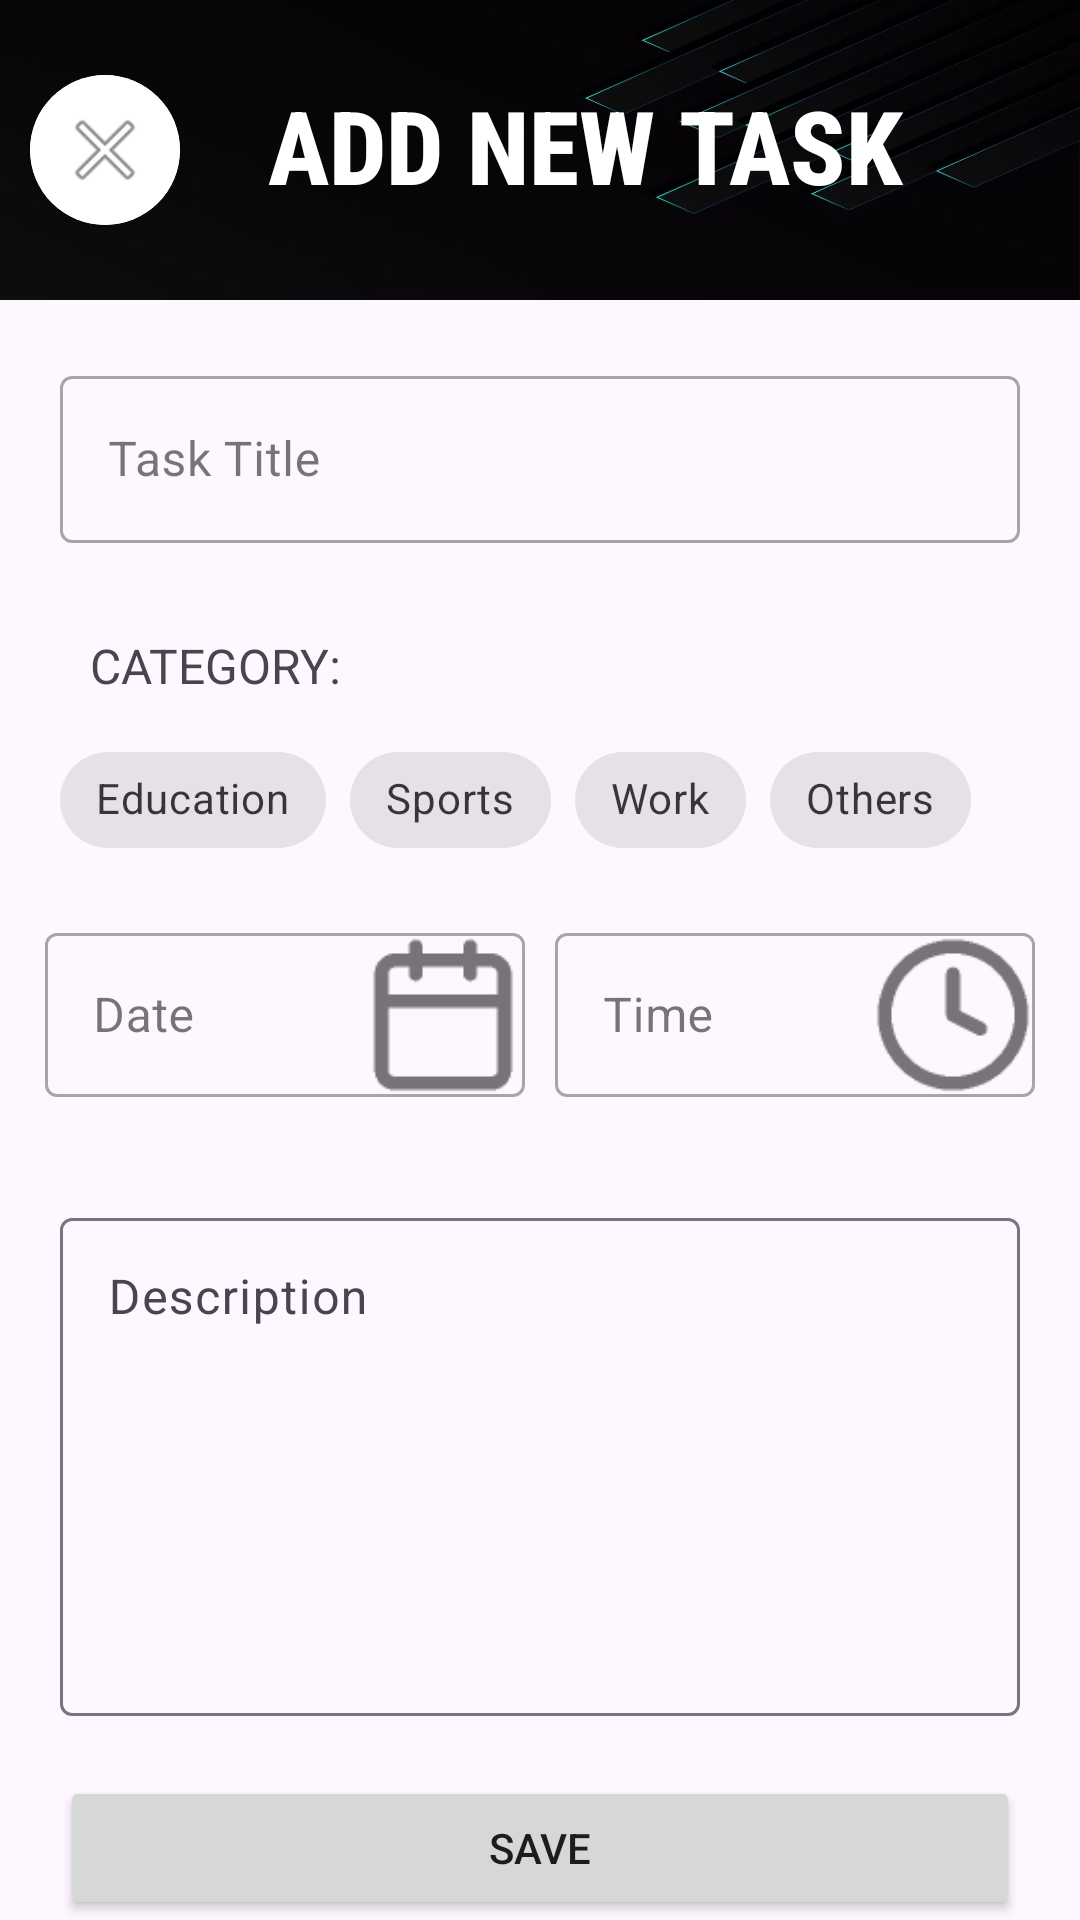

Icon click points for this 1080px×1920px phone screenshot, format (x,y):
close clear cancel: (105,150)
